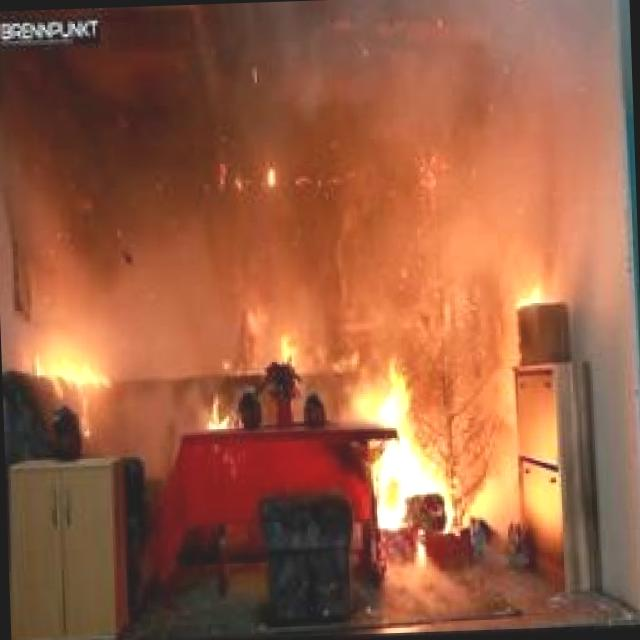fire: (11, 276, 504, 563)
